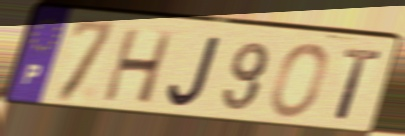7: (57, 16, 121, 107)
9: (220, 40, 272, 112)
H: (100, 25, 177, 106)
J: (167, 33, 224, 110)
O: (267, 41, 331, 120)
T: (332, 46, 385, 124)
